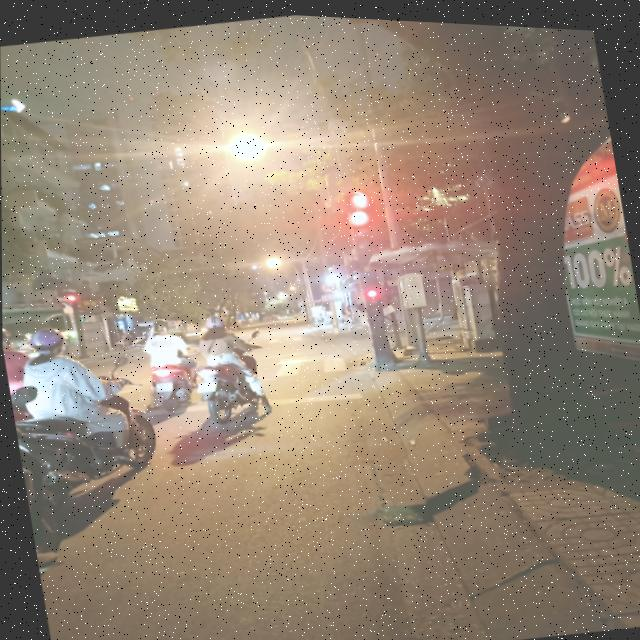Red: (345, 202, 377, 253), (361, 278, 385, 315)
